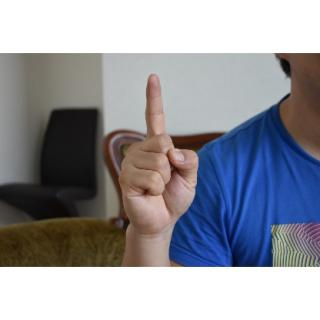RAA: (114, 70, 208, 236)
